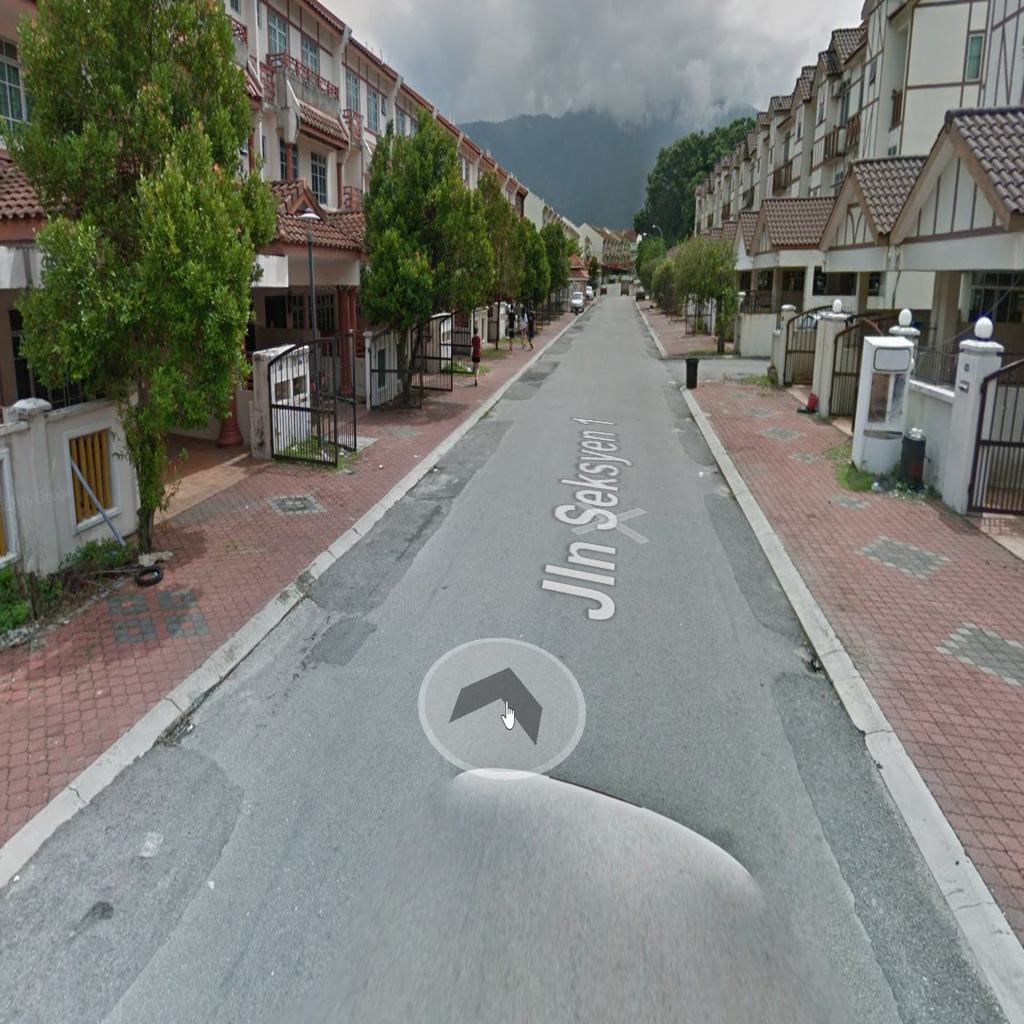Junction: (634, 336, 780, 404)
